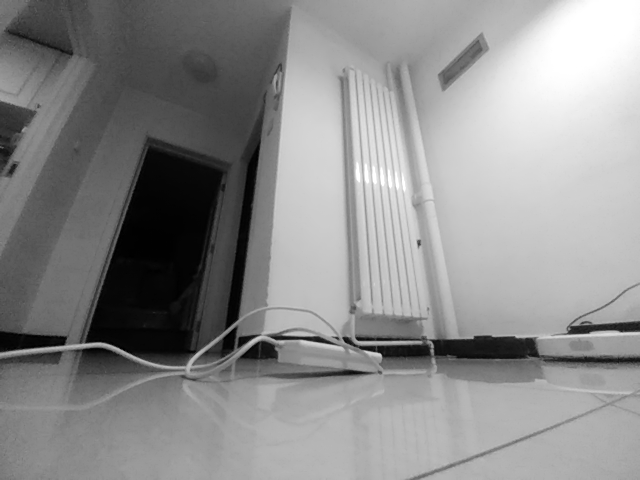power strip: (275, 338, 383, 374)
wire: (1, 305, 276, 384)
